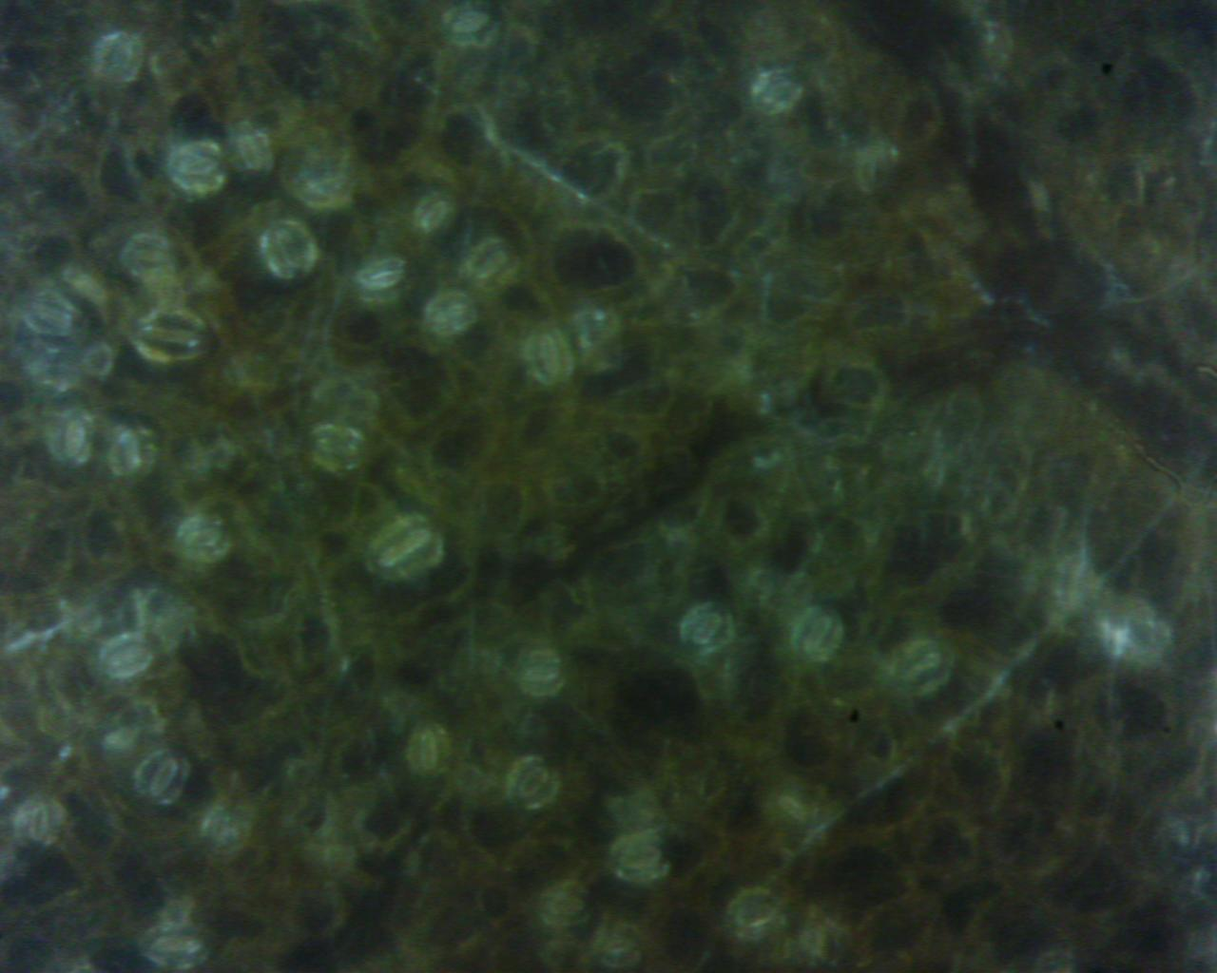stomata: (136, 314, 207, 366), (144, 923, 214, 970), (372, 525, 436, 574), (170, 142, 224, 192), (48, 410, 93, 468), (354, 260, 412, 305), (613, 833, 669, 879), (310, 427, 366, 470), (265, 219, 306, 276), (442, 6, 499, 47), (406, 721, 448, 775), (531, 329, 571, 383), (18, 797, 62, 846), (729, 892, 781, 933), (540, 887, 591, 928), (29, 294, 81, 333), (142, 753, 187, 798), (687, 606, 734, 649), (109, 427, 151, 474), (801, 610, 840, 659), (100, 637, 148, 675), (519, 657, 565, 696), (126, 235, 174, 272), (596, 926, 641, 965), (897, 647, 946, 681), (176, 520, 222, 556), (512, 764, 551, 806), (206, 811, 248, 849), (426, 298, 471, 333), (101, 36, 136, 79), (419, 193, 452, 238), (757, 77, 800, 109), (470, 248, 514, 277), (243, 129, 268, 173), (778, 793, 811, 826)
